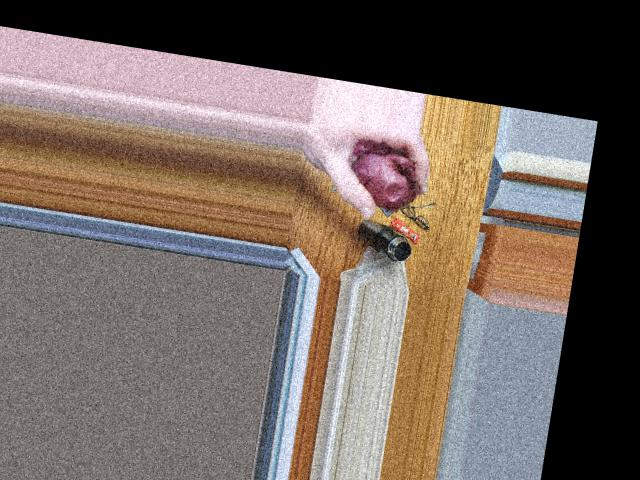onion: (342, 140, 433, 206)
